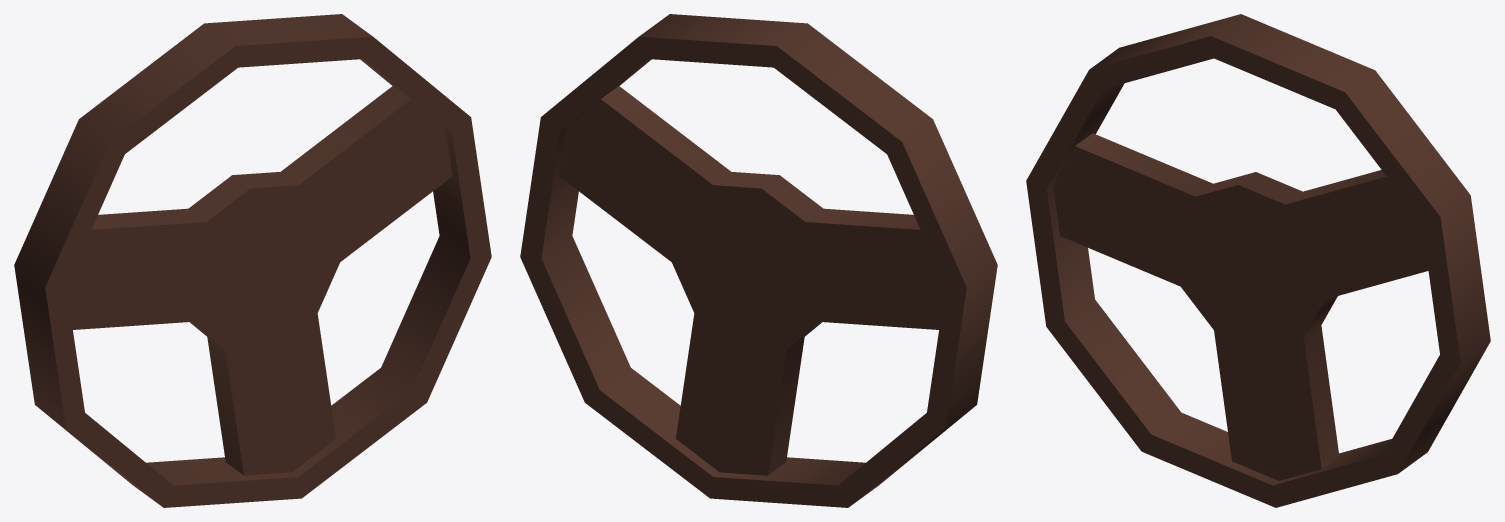
Rendered from SmallValve.fbx.
3 views of the same model, side by side, from view 1: azimuth 30°, elevation 25°; view 2: azimuth 150°, elevation 25°; view 3: azimuth 330°, elevation 25° (orthographic). The views are drawn at different scales.
Visible parts, largest first — view 1: Cube.091; view 2: Cube.091; view 3: Cube.091.
Boxes of the visible parts, bbox=[...] form: Cube.091: bbox=[14, 14, 491, 507]; Cube.091: bbox=[520, 14, 997, 507]; Cube.091: bbox=[1026, 14, 1490, 507].
Size of the model in its own units: 12.91 by 12.95 by 1.55.
